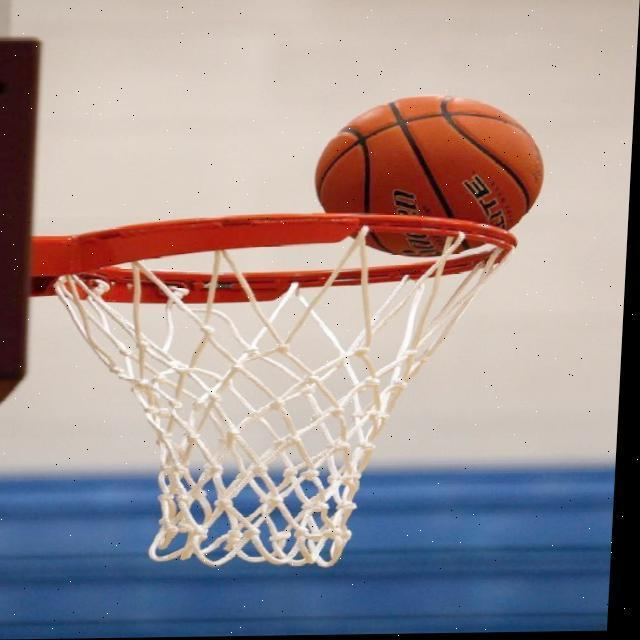rebound_hit: (313, 88, 552, 264)
